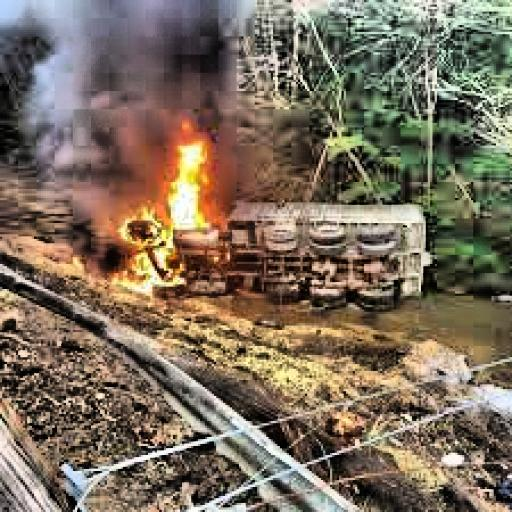fire: (100, 116, 248, 300)
